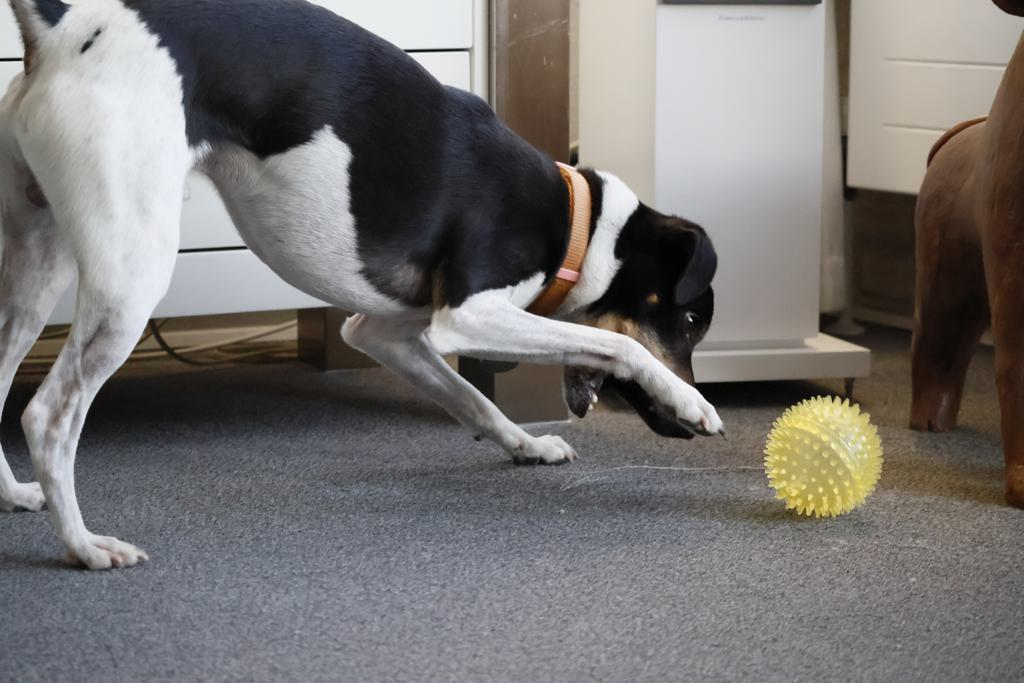Cattle: (892, 0, 1024, 516)
Dog: (0, 0, 738, 578)
